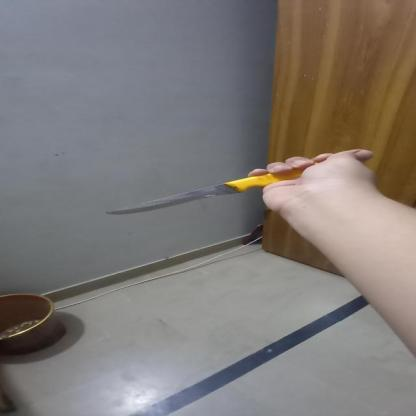Knife: (105, 162, 328, 215)
